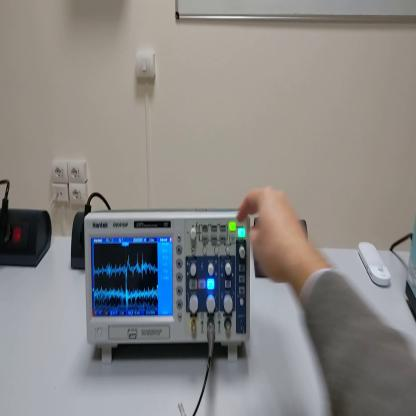hand: (235, 185, 306, 286)
oscilloscope: (85, 212, 253, 367)
socket: (1, 208, 54, 268), (72, 212, 85, 270)
welder station: (405, 227, 415, 322)
